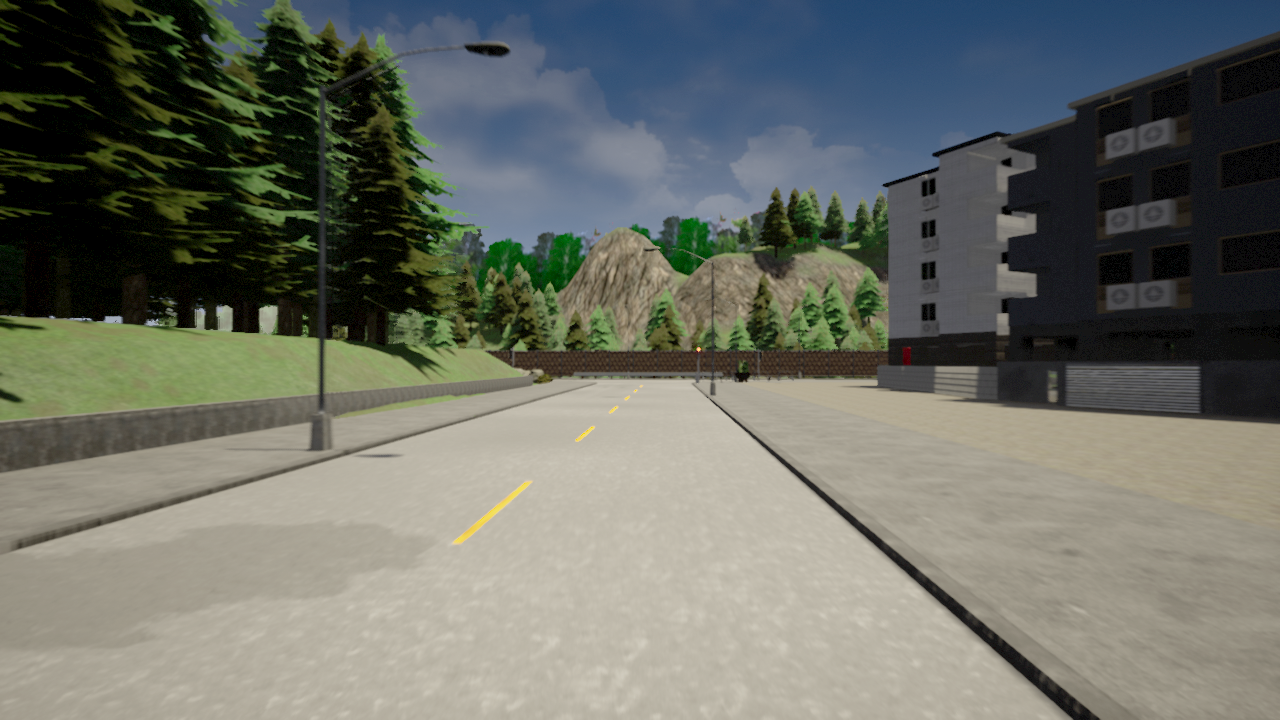red: (695, 346, 702, 359)
